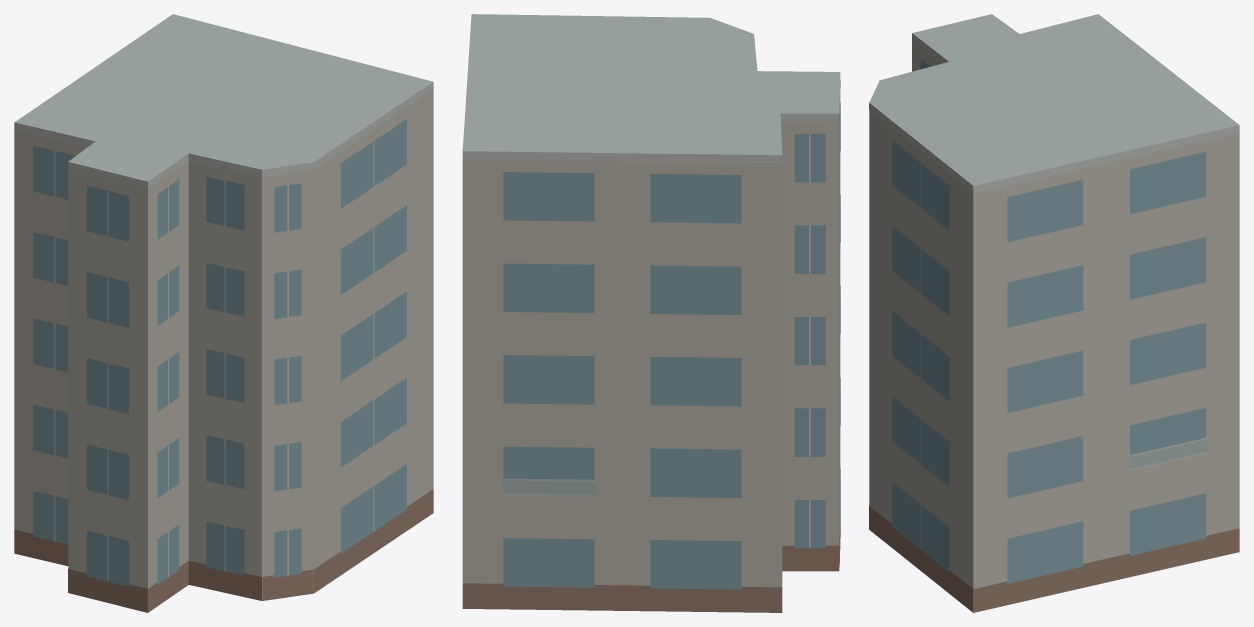
The model's file is survey-upis-32837193.glb.
3 views of the same model, side by side, from view 1: azimuth 30°, elevation 25°; view 2: azimuth 150°, elevation 25°; view 3: azimuth 270°, elevation 25° (orthographic). The views are drawn at different scales.
Visible parts, largest first — view 1: survey-upis-32837193.tmp; view 2: survey-upis-32837193.tmp; view 3: survey-upis-32837193.tmp.
Boxes of the visible parts, box(x1,y1,x2,y2) form: survey-upis-32837193.tmp: box(14, 14, 433, 612); survey-upis-32837193.tmp: box(462, 14, 840, 612); survey-upis-32837193.tmp: box(869, 14, 1239, 612).
Size of the model in its own units: 12.11 by 14 by 11.02.
